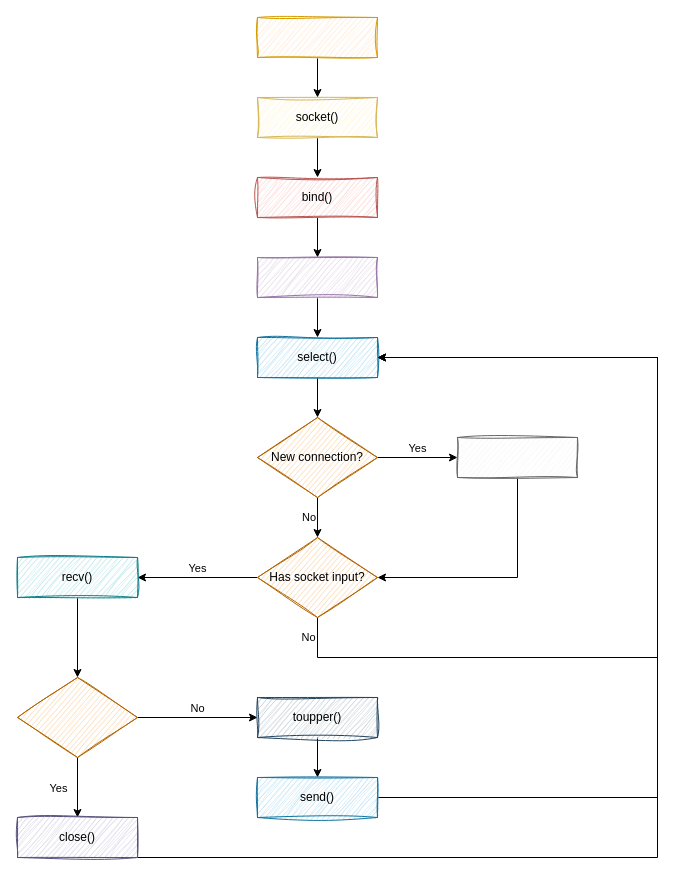
This 683x883 diagram has some shape labels left out. The centre of each missing label's shape, as x and y in pixels:
accept(): pixel 517 457
getaddrinfo(): pixel 317 37
listen(): pixel 317 277
Socket closed by peer?: pixel 77 717
